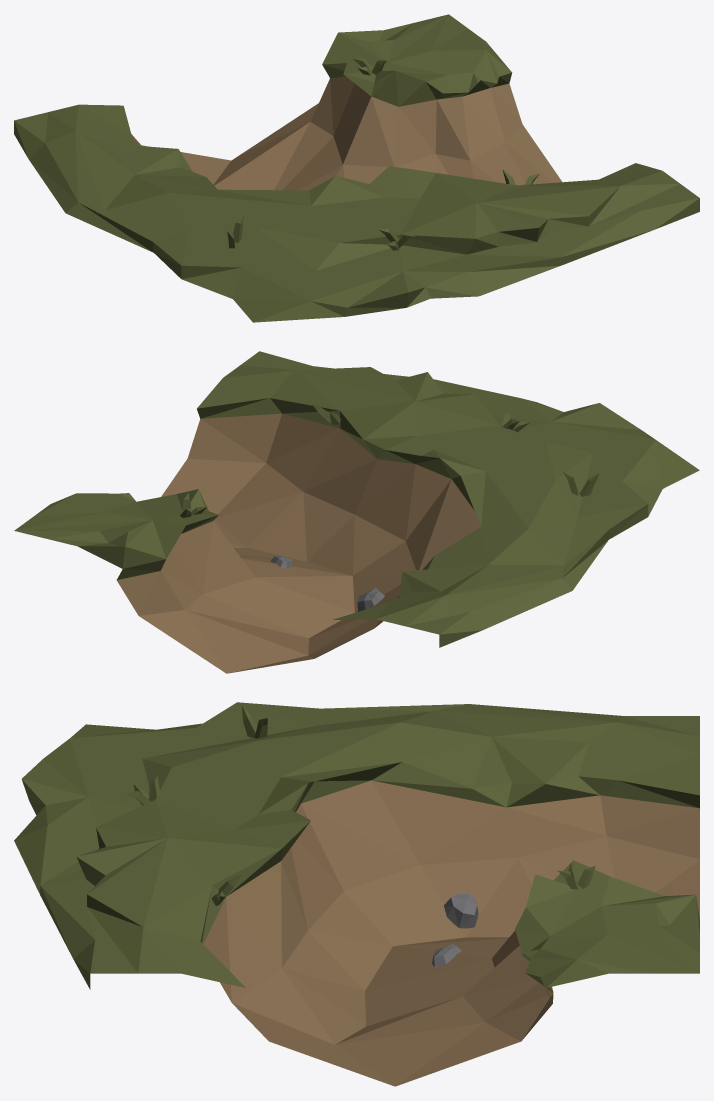
The model's file is stream_corner.glb.
The picture shows the model from 3 angles, top to bottom: view 1: azimuth 30°, elevation 25°; view 2: azimuth 150°, elevation 25°; view 3: azimuth 270°, elevation 25°; orthographic projection. The views are drawn at different scales.
Parts seen in each view (by area): view 1: SM_Env_Stream_Corner_01; view 2: SM_Env_Stream_Corner_01; view 3: SM_Env_Stream_Corner_01.
Part boxes in pixels (box(x1,y1,x2,y2)): SM_Env_Stream_Corner_01: box(14, 14, 699, 322); SM_Env_Stream_Corner_01: box(14, 351, 699, 673); SM_Env_Stream_Corner_01: box(14, 702, 699, 1086).
Size of the model in its own units: 549 by 131 by 563.
1 material, 1 textured.
